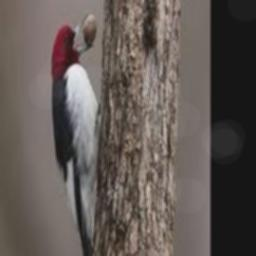Woodpecker: (51, 12, 101, 256)
